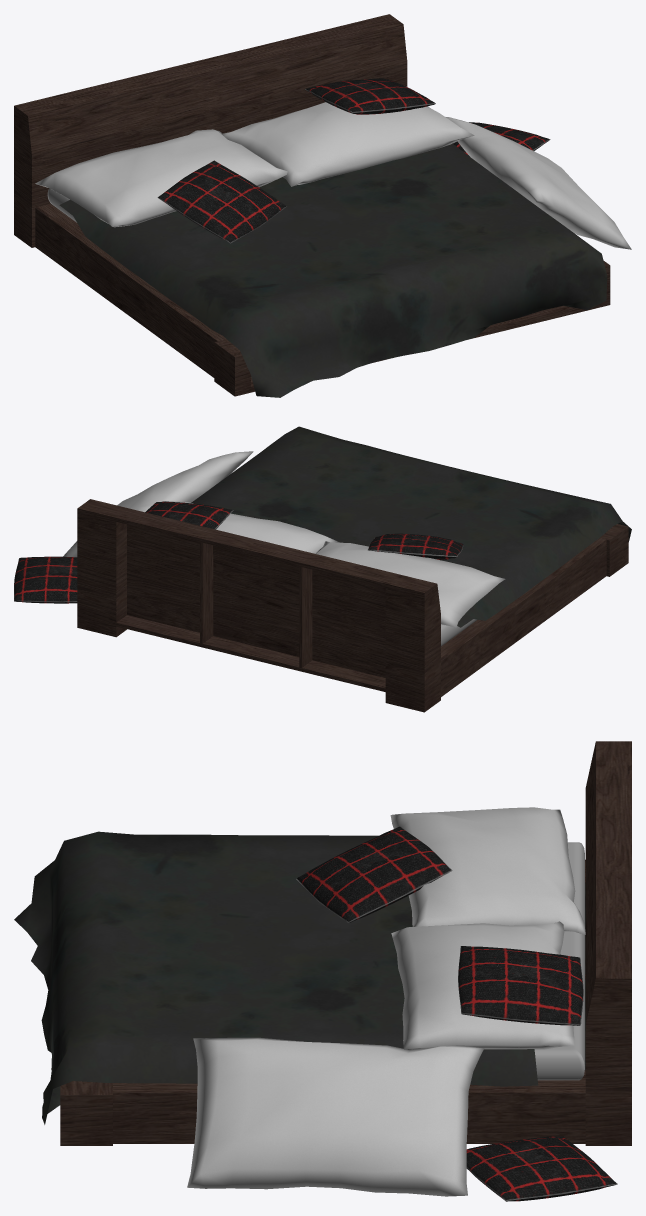
File: bed.glb
3 views of the same model, one above another, from view 1: azimuth 30°, elevation 25°; view 2: azimuth 150°, elevation 25°; view 3: azimuth 270°, elevation 25° (orthographic). The views are drawn at different scales.
Visible parts, largest first — view 1: Bed, Pillow_2.001, Pillow_2, Pillow_2.002, Plane.001, Plane.000, Plane.002; view 2: Bed, Pillow_2, Pillow_2.002, Plane.002, Pillow_2.001, Plane.001, Plane.000; view 3: Bed, Pillow_2.002, Pillow_2, Pillow_2.001, Plane.000, Plane.001, Plane.002.
Boxes of the visible parts, x1,y1,x2,y2 form: Bed: (14, 14, 610, 397); Pillow_2.001: (221, 86, 474, 186); Pillow_2: (35, 129, 287, 227); Pillow_2.002: (446, 117, 631, 249); Plane.001: (157, 160, 286, 243); Plane.000: (305, 78, 435, 114); Plane.002: (452, 122, 550, 156); Bed: (77, 426, 631, 712); Pillow_2: (315, 541, 505, 627); Pillow_2.002: (63, 451, 253, 557); Plane.002: (14, 556, 77, 603); Pillow_2.001: (161, 501, 339, 553); Plane.001: (368, 533, 463, 560); Plane.000: (145, 501, 233, 529); Bed: (14, 741, 631, 1145); Pillow_2.002: (187, 1037, 484, 1196); Pillow_2: (390, 807, 585, 934); Pillow_2.001: (391, 921, 574, 1049); Plane.000: (458, 946, 583, 1025); Plane.001: (296, 826, 452, 922); Plane.002: (466, 1136, 617, 1201).
Size of the model in its own units: 288 by 72.59 by 241.
5 materials, 5 textured.
